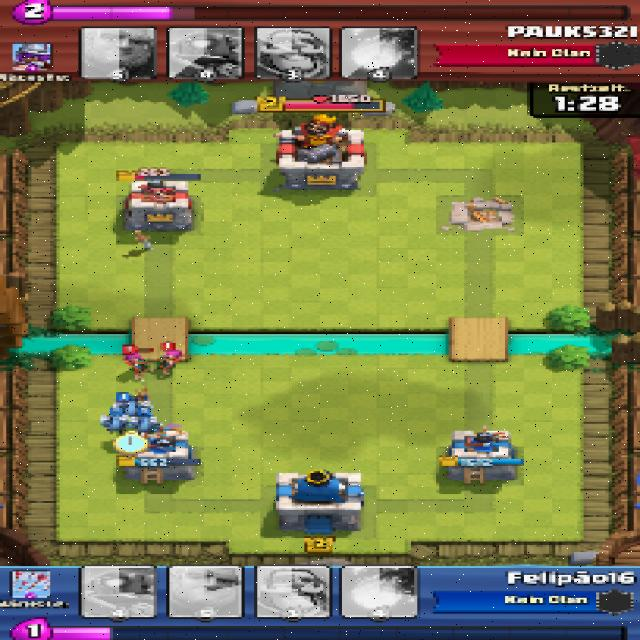Enemy-Archer: (117, 352, 150, 373), (153, 350, 184, 372)
Player-Minion: (127, 415, 162, 434), (113, 399, 150, 415), (102, 414, 128, 433)
